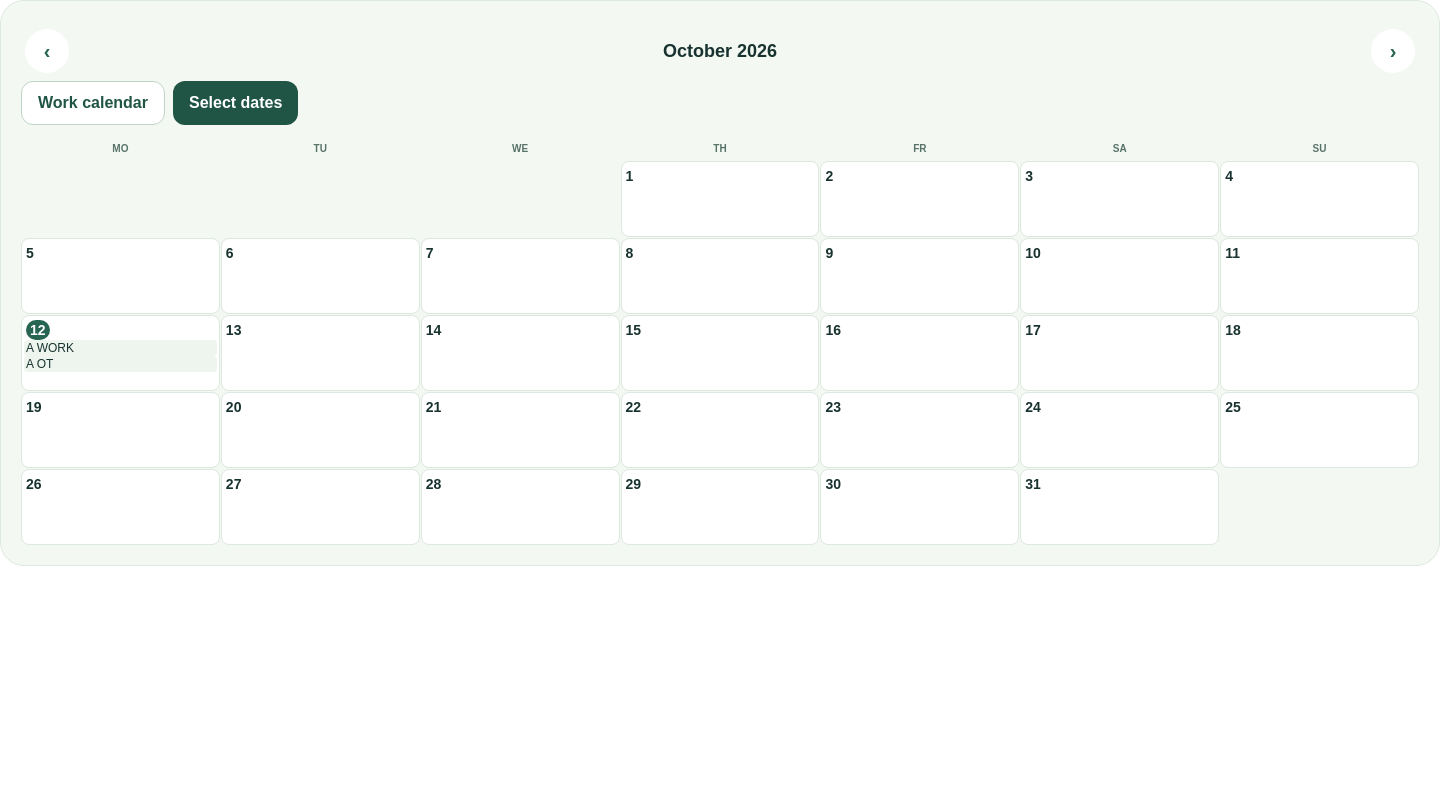
Test: event UI › shows a visible refresh retry after create without posting the event twice
Click the button named "Open October 13, 2026" at (320, 353), box [221,315,420,391]
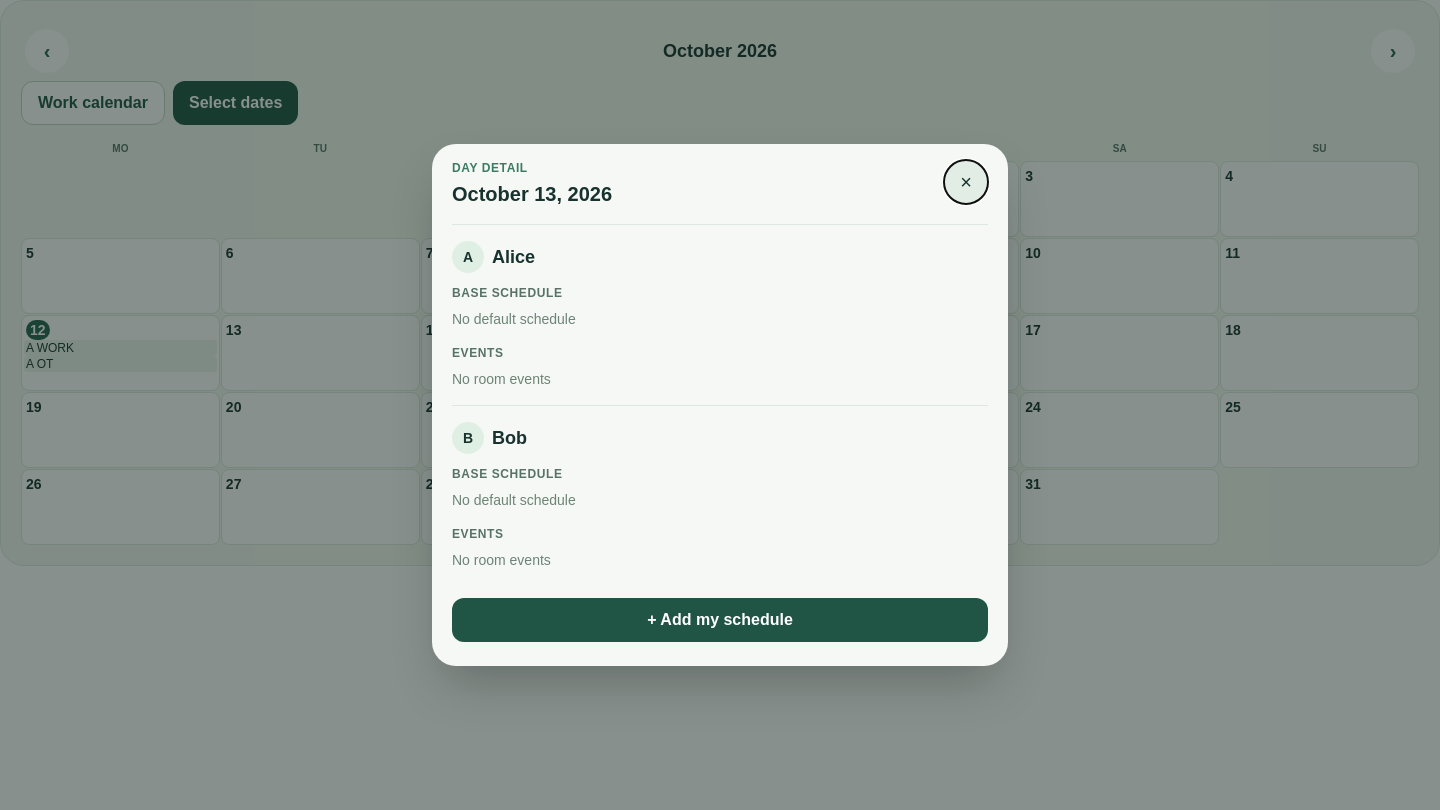
Click the button "+ Add my schedule" at (720, 620), box [452,598,988,642]
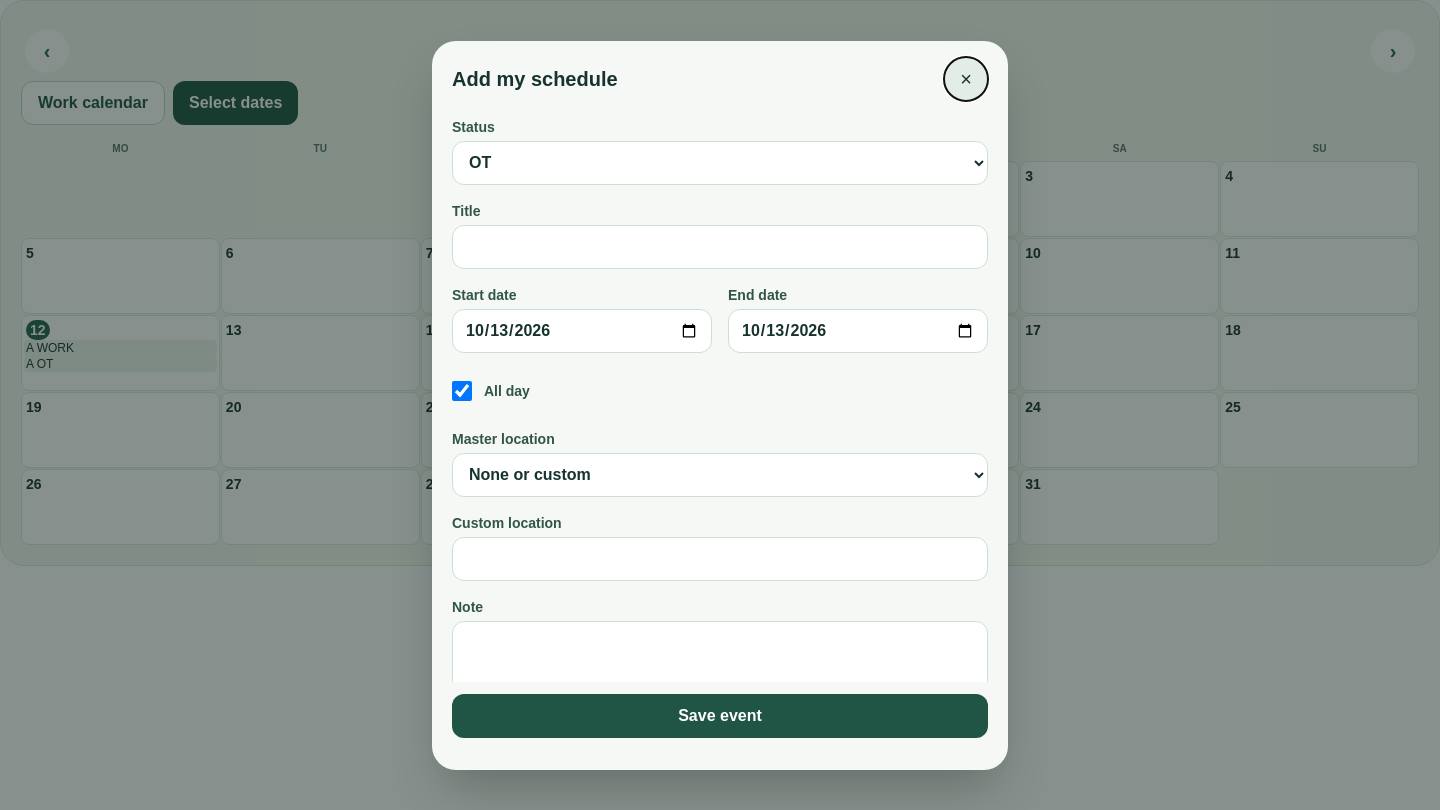
Now the date field labelled "Start date" holds "2026-10-13", box [452,308,712,352]
Now the date field labelled "End date" holds "2026-10-13", box [728,308,988,352]
Click the button "Save event" at (720, 716), box [452,694,988,738]
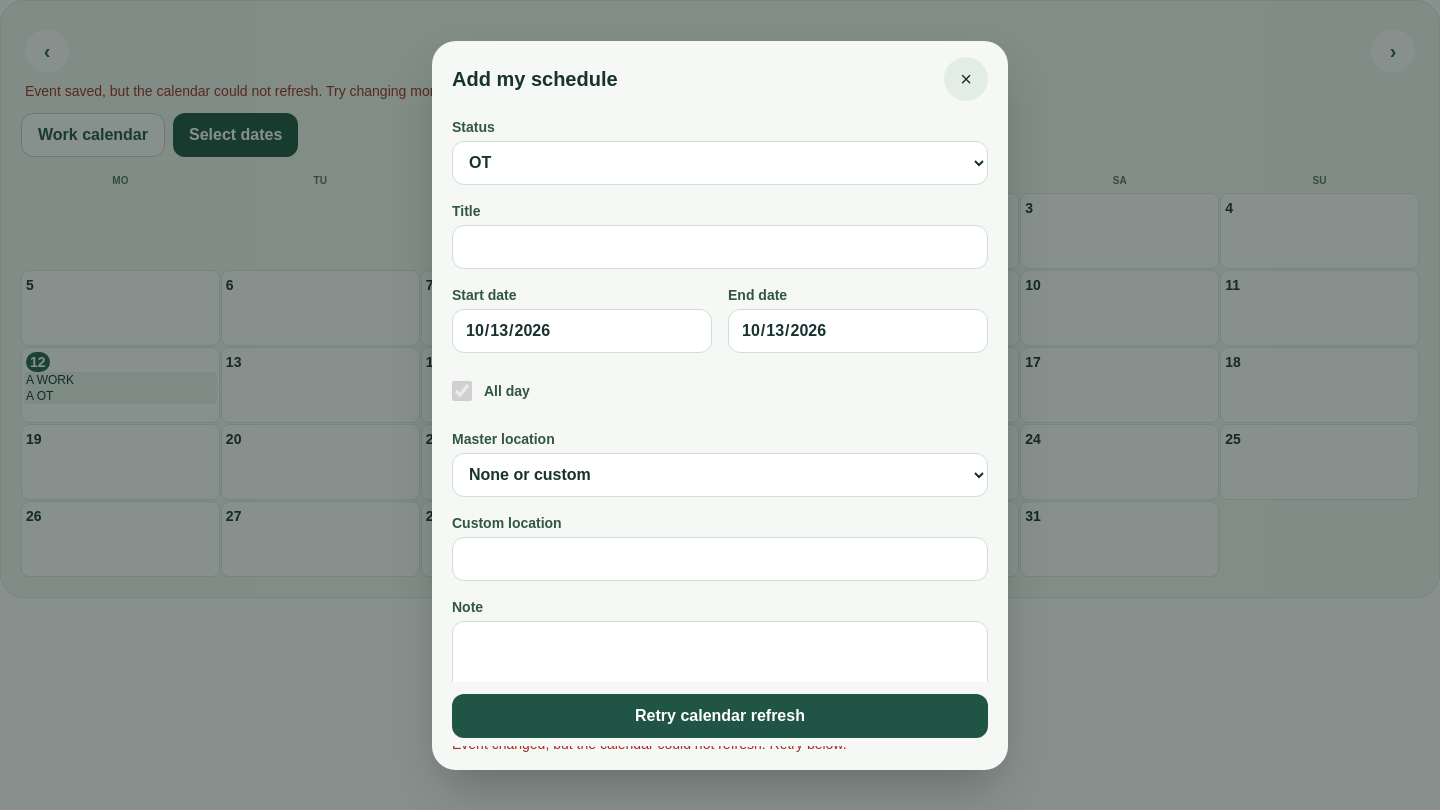
Now the dialog named "Retry calendar refresh" is shown, box [432,40,1008,770]
Now the message "Event changed, but the calendar could not refresh. Retry below." is shown, box [452,736,847,752]
Click the button "Retry calendar refresh" at (720, 716), box [452,694,988,738]
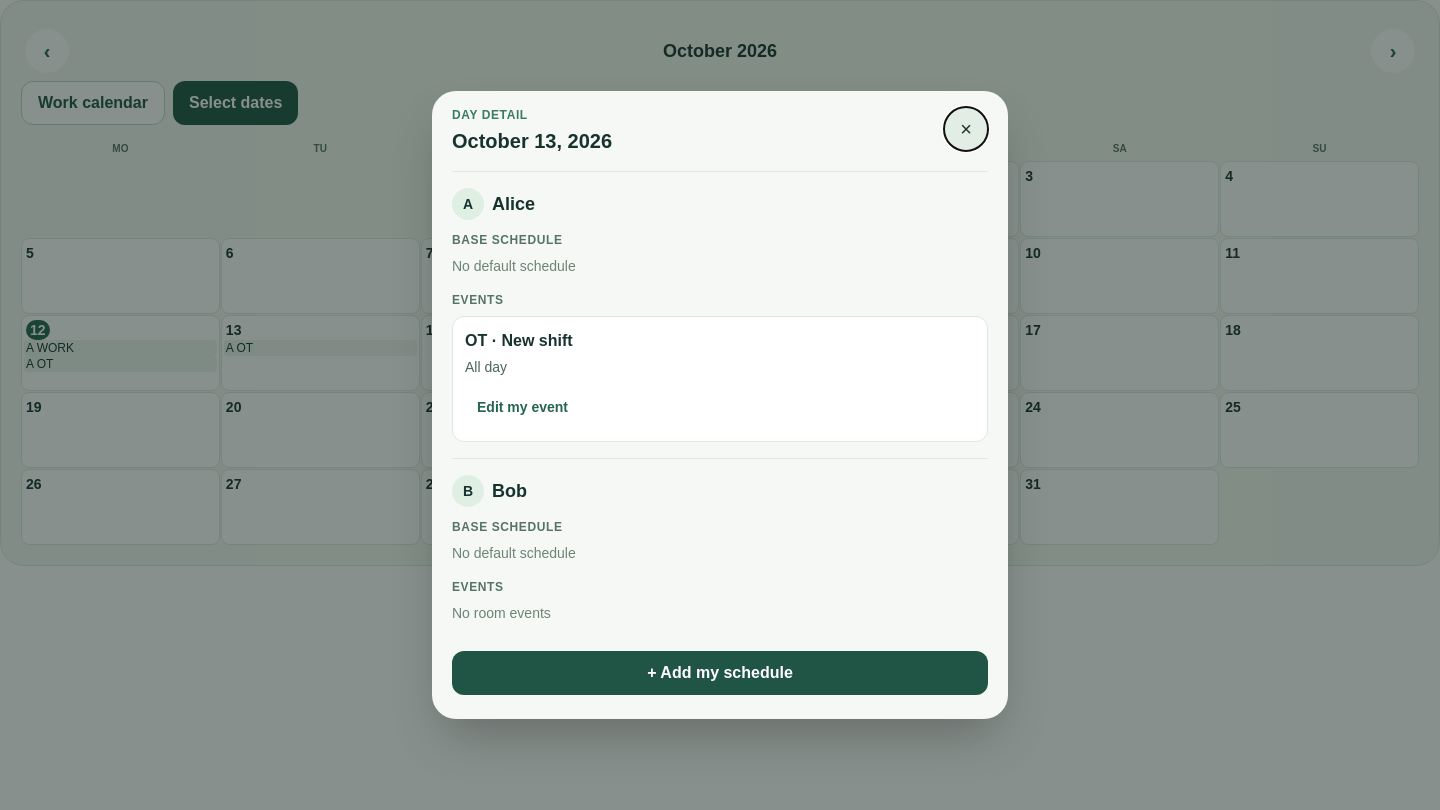
Now the text "OT · New shift" is shown, box [465,332,573,349]
